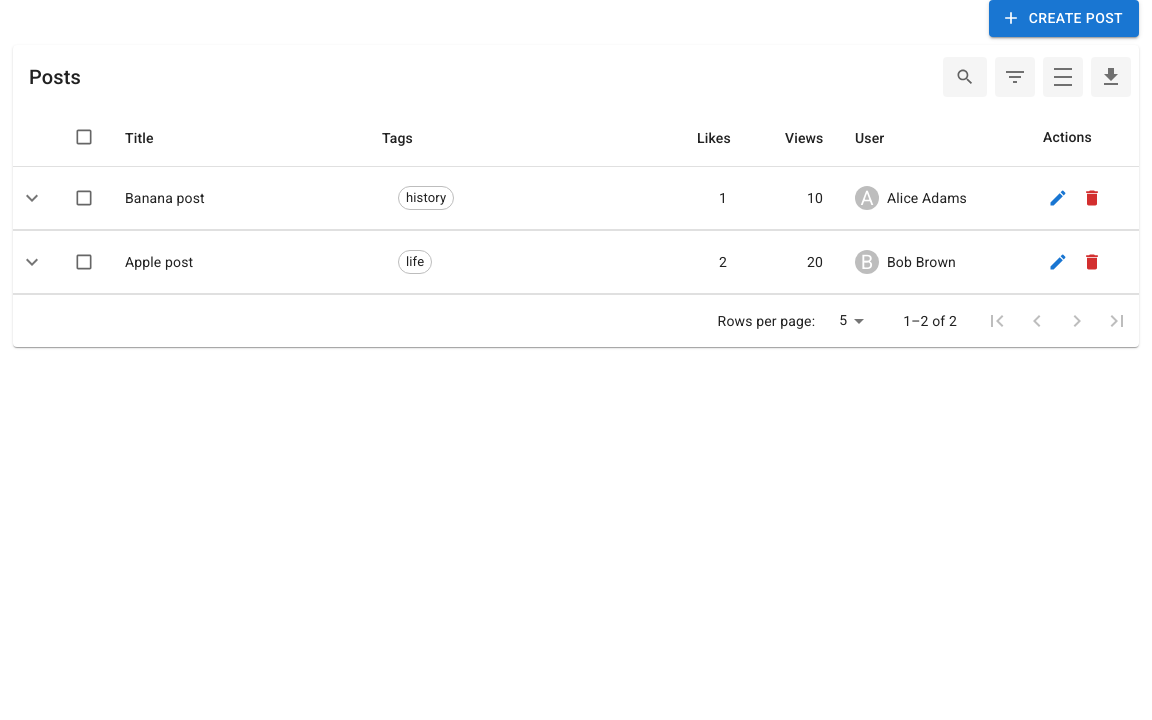
it: PostsTable › edits a post through the dialog, shows the loading state, and hits the API
Expected: the column heading "Banana post" is shown, [109,167,382,230]
Step 1. Click the button named "edit post" in the row of "Banana post" → click(1058, 198), box [1043,183,1073,213]
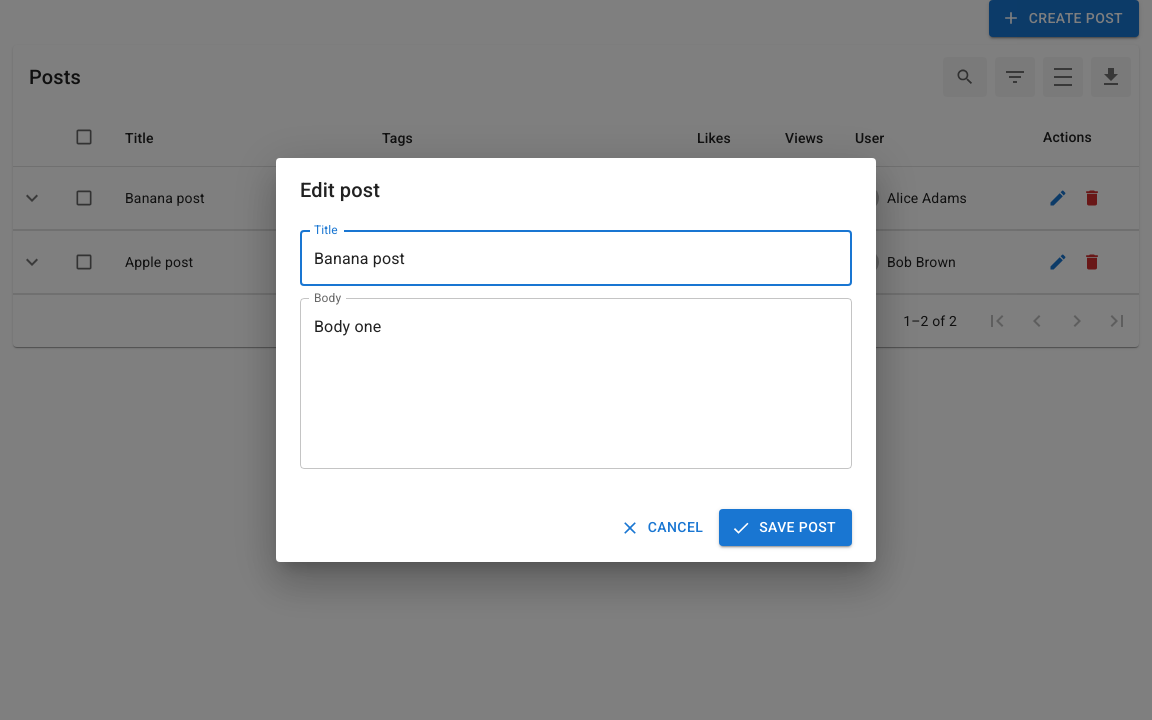
Step 2. Replace the text in the field labelled "Title" with "Updated banana" → (576, 258), box [300,230,852,286]
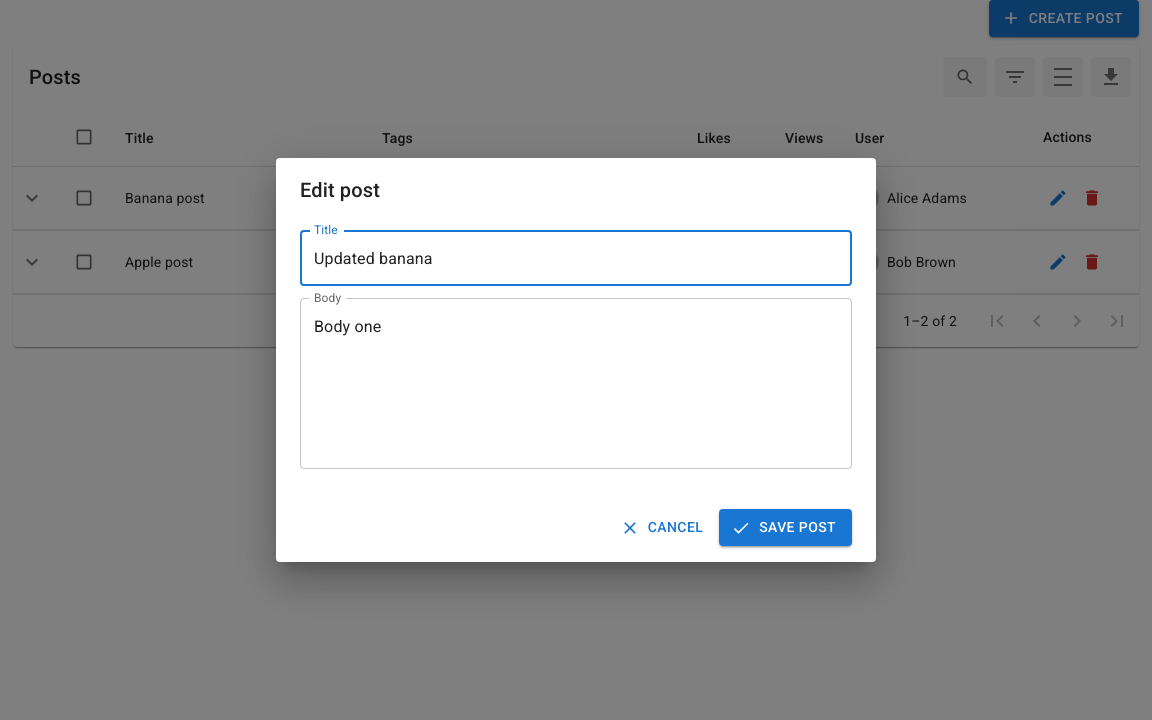
Step 3. Click the button "Save Post" → click(786, 528), box [719,509,852,546]
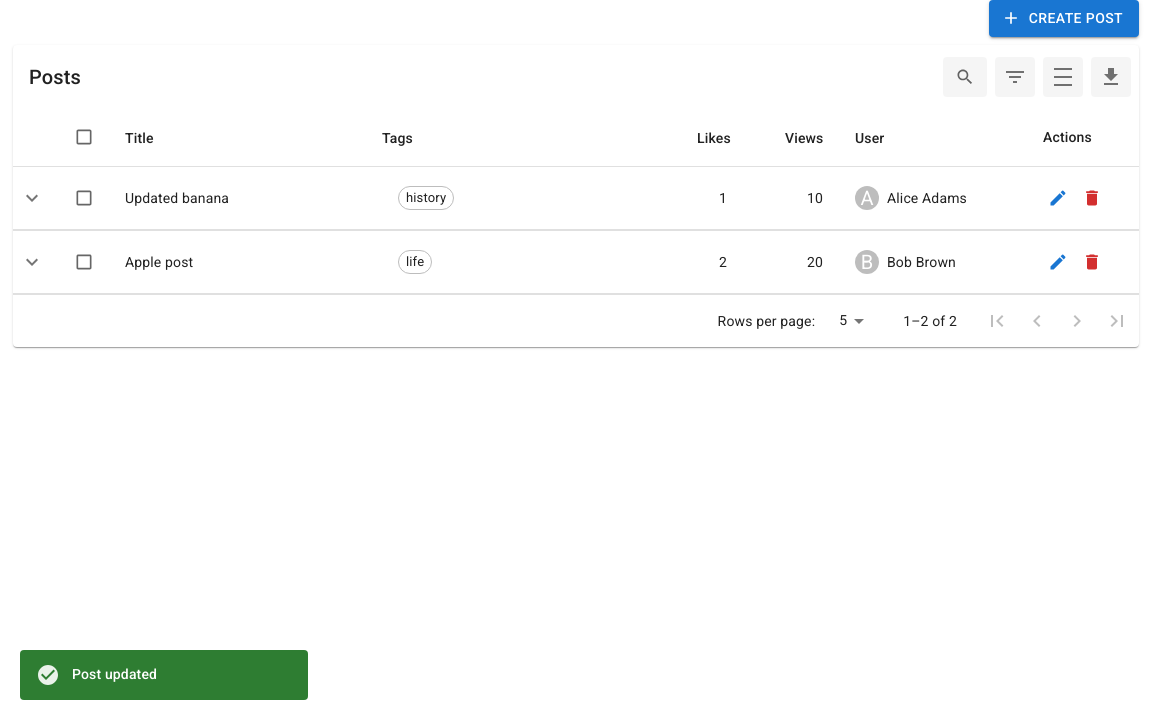
Result: the dialog is gone
Result: the column heading "Updated banana" is shown at [109,167,382,230]
Result: the text "Post updated" is shown at [72,666,157,682]
